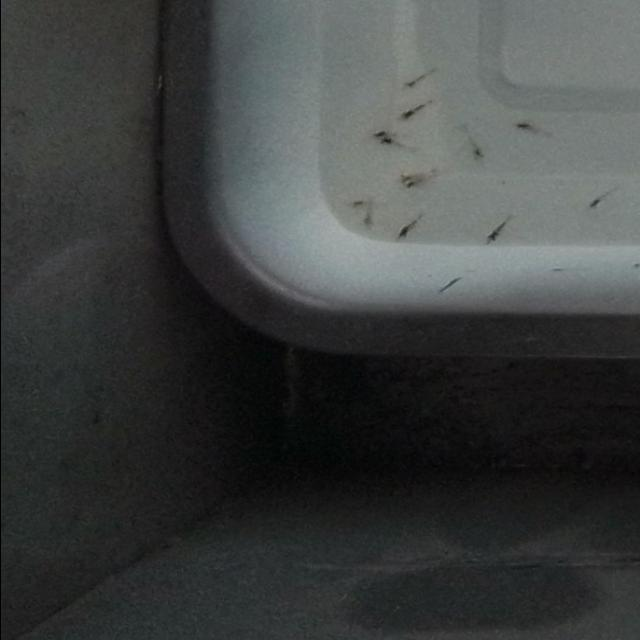shrimp-seed: (582, 193, 606, 211), (482, 228, 502, 244), (399, 105, 416, 122), (396, 222, 414, 238), (404, 75, 420, 91), (514, 120, 532, 134), (470, 146, 486, 160), (360, 214, 374, 228), (371, 128, 387, 140), (396, 172, 412, 184), (349, 197, 364, 209), (378, 136, 393, 146), (404, 180, 417, 190)
